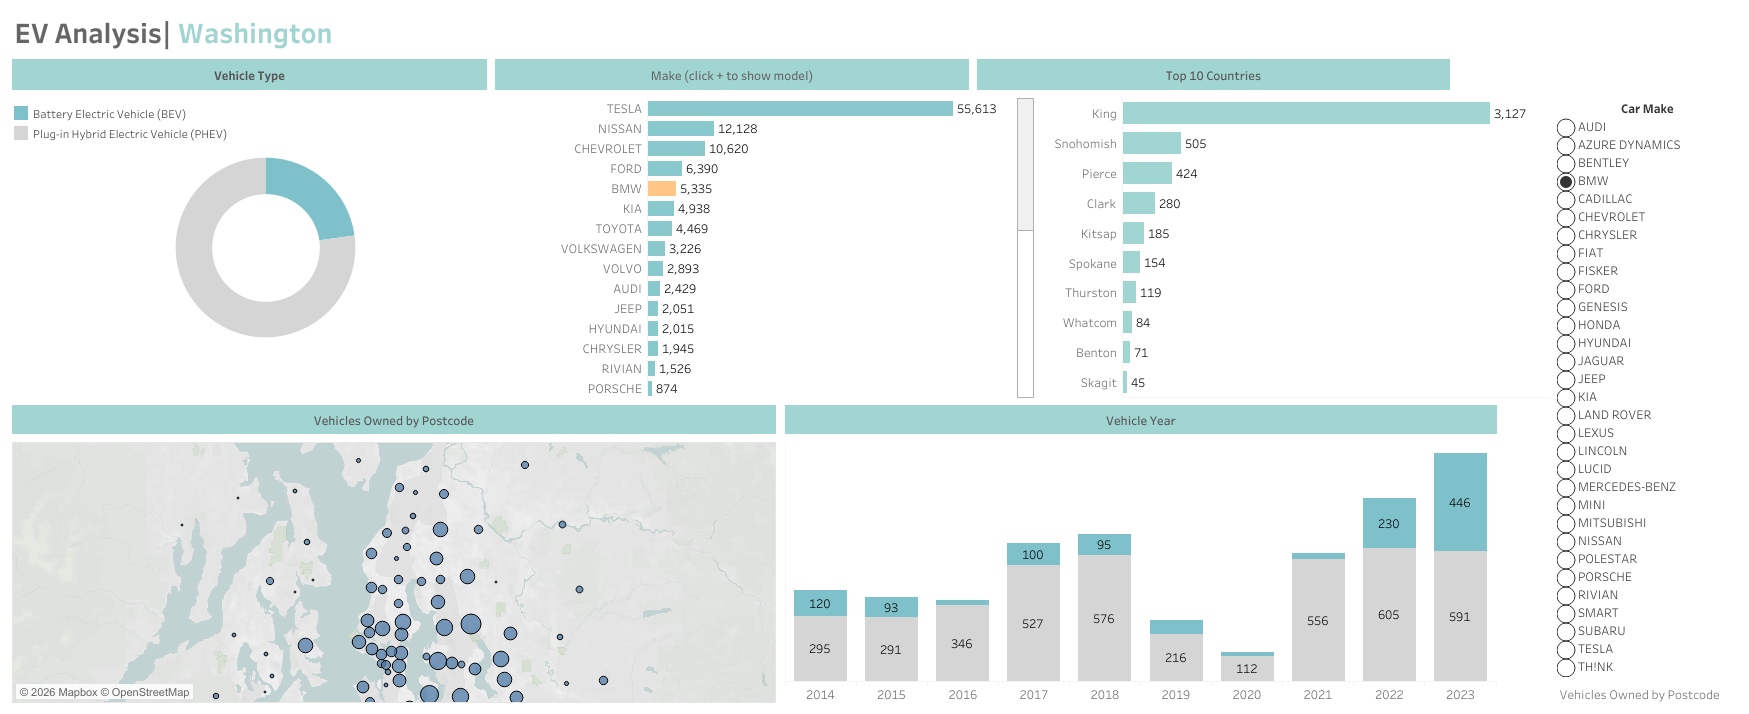

The page's visual inventory and layout, read from the dashboard file:
{"tool":"tableau","page":{"name":"Dashboard 1","canvas":[1000,1000],"units":"permille","ordinal":0},"visuals":[{"type":"text","box":[6.9,13.7,521.2,65.1]},{"type":"text","box":[6.9,78.8,274.4,54.8]},{"type":"text","box":[281.4,78.8,274.4,54.8]},{"type":"text","box":[555.8,78.8,273.6,54.8]},{"type":"worksheet","title":"Vehicle Type Donut","mark":"Pie","rows":["Calculation_0465654261379074","Calculation_0465654261379074"],"box":[6.9,133.6,274.5,426.4]},{"type":"worksheet","title":"Make and Model","mark":"Automatic","rows":["Make"],"cols":["DOL Vehicle ID"],"box":[281.4,133.6,274.4,426.4]},{"type":"worksheet","title":"Top 10 Countries","mark":"Automatic","rows":["County"],"cols":["DOL Vehicle ID"],"box":[555.8,133.6,273.6,426.4]},{"type":"parameter","param":"[Parameters].[Parameter 0465654259261440]","box":[829.4,133.6,163.6,809.9]},{"type":"legend","title":"Vehicle Type Donut","param":"[federated.0xaq2tk11dbtha18umelk0ev74l5].[none:Electric Vehicle Type:nk]","box":[6.1,143.8,133.3,101]},{"type":"text","box":[6.9,559.9,411.2,52.4]},{"type":"text","box":[418.2,559.9,383.5,52.4]},{"type":"blank","box":[801.7,559.9,27.7,426.4]},{"type":"worksheet","title":"Map","mark":"Automatic","box":[6.9,612.3,411.2,374]},{"type":"worksheet","title":"Year and Type","mark":"Bar","rows":["Electric!Vehicle!Population!Dat_FD8C104B761B4C27969382239C70"],"cols":["Model Year"],"box":[418.2,612.3,383.5,374]},{"type":"text","box":[829.4,943.5,163.6,42.8]}]}

Visuals, with their boxes on the dashboard's canvas, which has no fixed pixel size, in thousandths of its width and height (x1, y1, x2, y2). These are canvas units, not pixel positions in the 1749x714 screenshot, which may show the page scaled, cropped or inside an application window:
text: box=[7, 14, 528, 79]
text: box=[7, 79, 281, 134]
text: box=[281, 79, 556, 134]
text: box=[556, 79, 829, 134]
"Vehicle Type Donut" worksheet (Pie marks): box=[7, 134, 281, 560]
"Make and Model" worksheet: box=[281, 134, 556, 560]
"Top 10 Countries" worksheet: box=[556, 134, 829, 560]
parameter: box=[829, 134, 993, 944]
"Vehicle Type Donut" legend: box=[6, 144, 139, 245]
text: box=[7, 560, 418, 612]
text: box=[418, 560, 802, 612]
blank: box=[802, 560, 829, 986]
"Map" worksheet: box=[7, 612, 418, 986]
"Year and Type" worksheet (Bar marks): box=[418, 612, 802, 986]
text: box=[829, 944, 993, 986]
